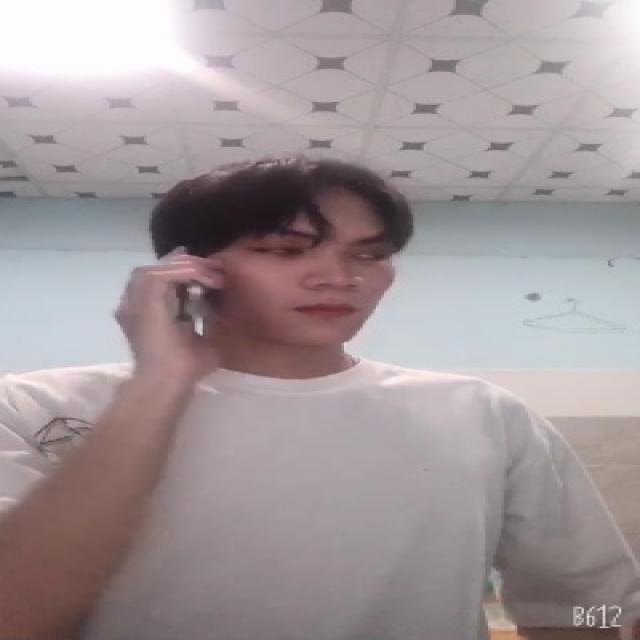Phone: (162, 238, 218, 332)
